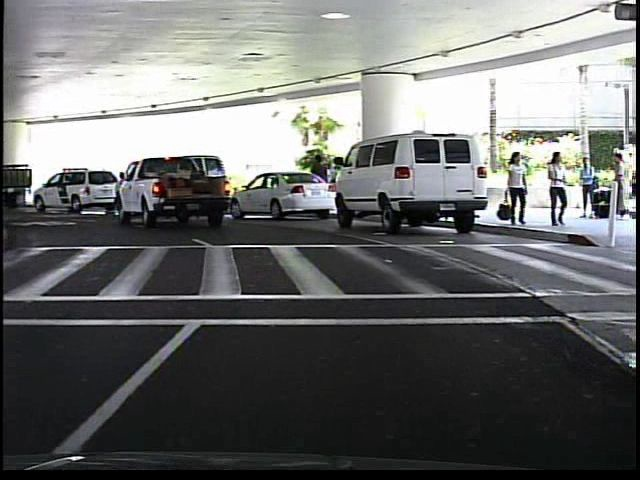person: (546, 152, 574, 233), (502, 149, 531, 227), (575, 156, 601, 226), (607, 150, 631, 221), (310, 150, 332, 212)
